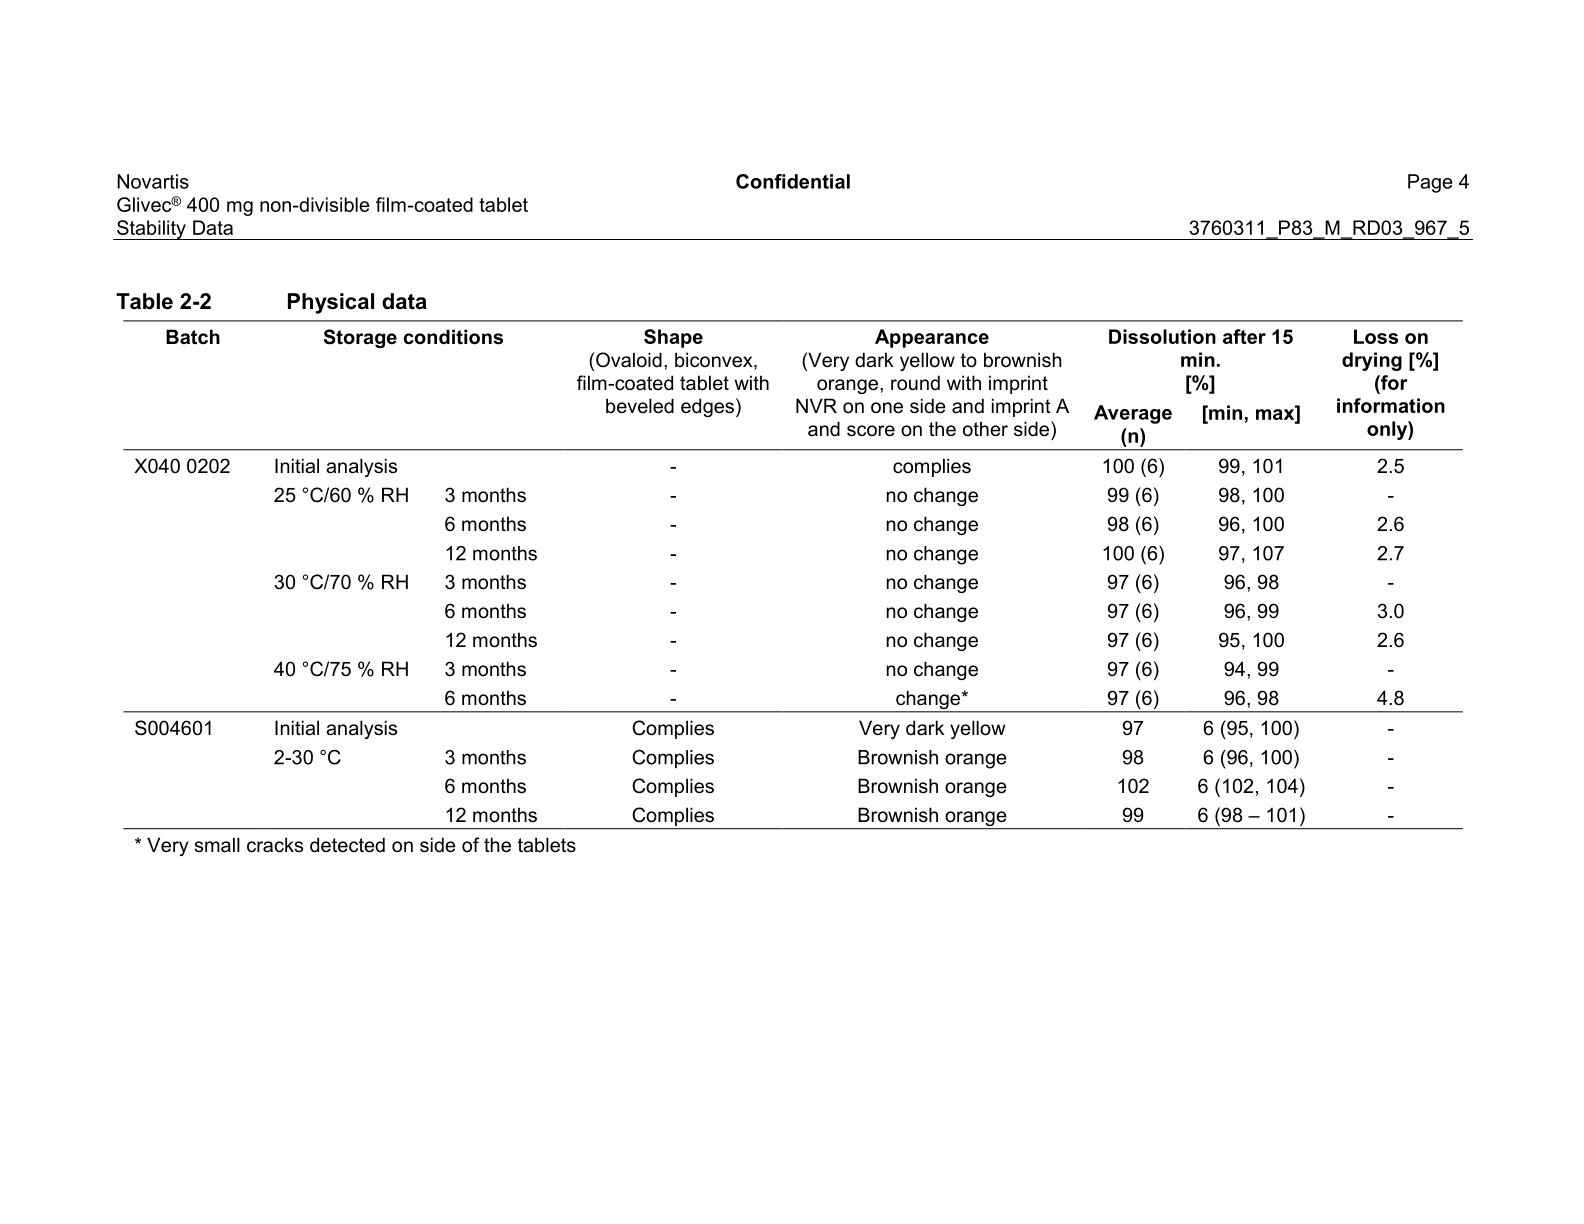partial_lined_merged_cells: (123, 318, 1464, 831)
